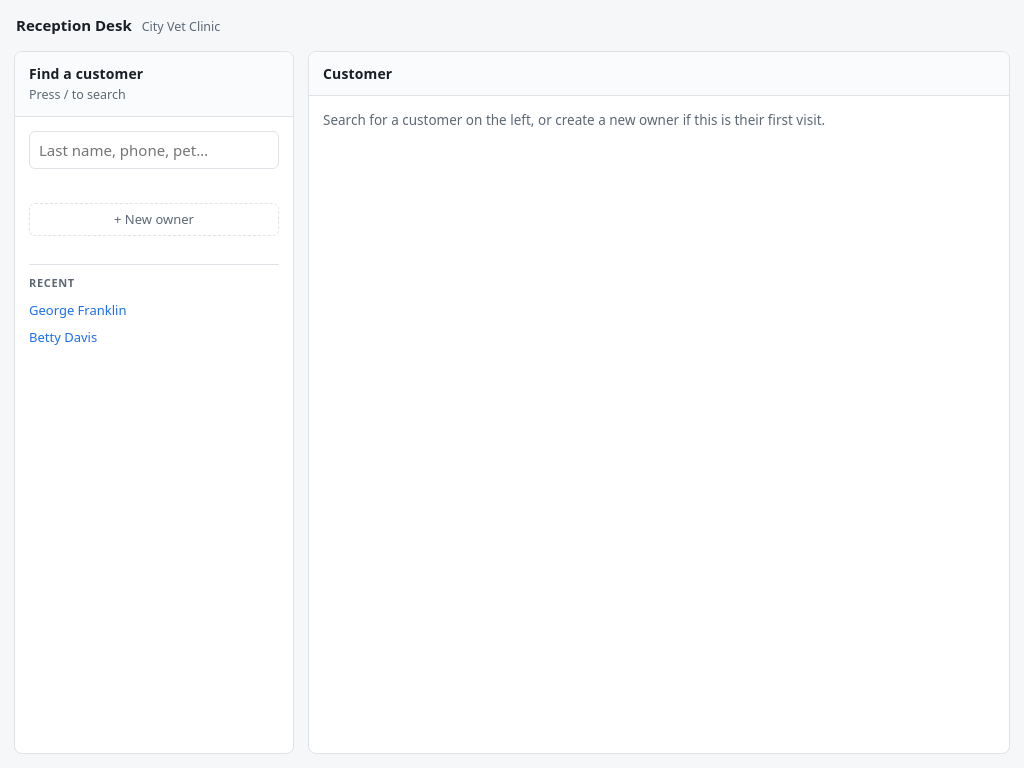
reception desk workflow › cannot let a slow earlier search overwrite a newer one
Type "Franklin" into the field named "search by last name" at (154, 150), box [29, 130, 279, 169]
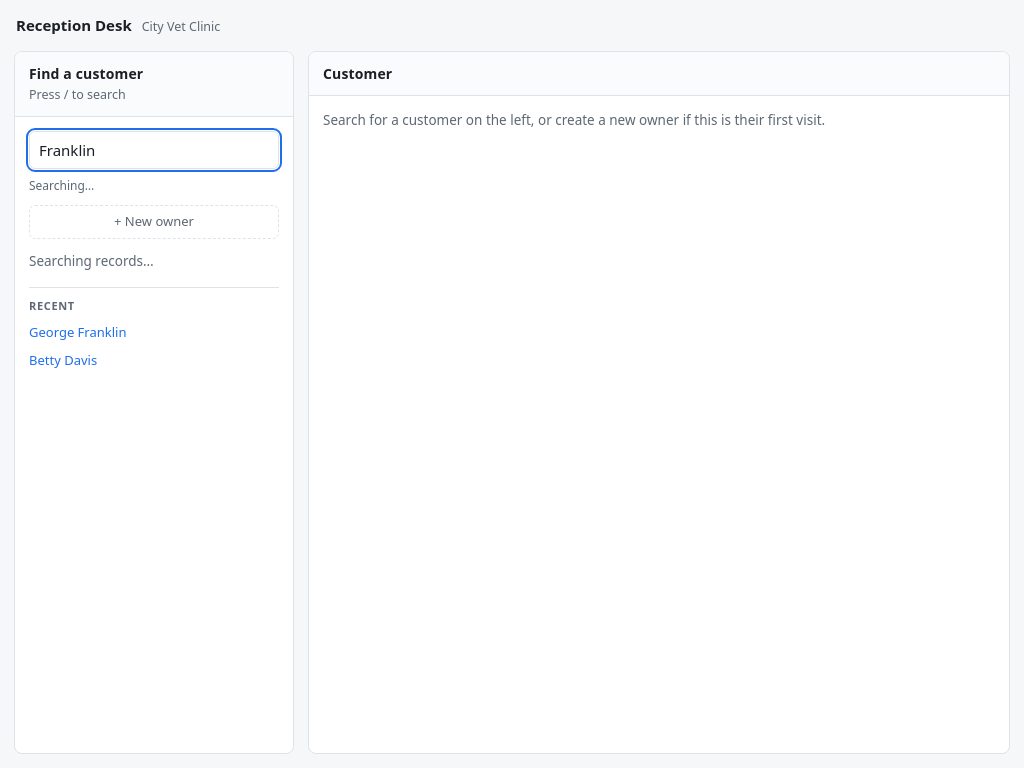
Replace the text in the field named "search by last name" with "Davis" at (154, 150), box [29, 130, 279, 169]
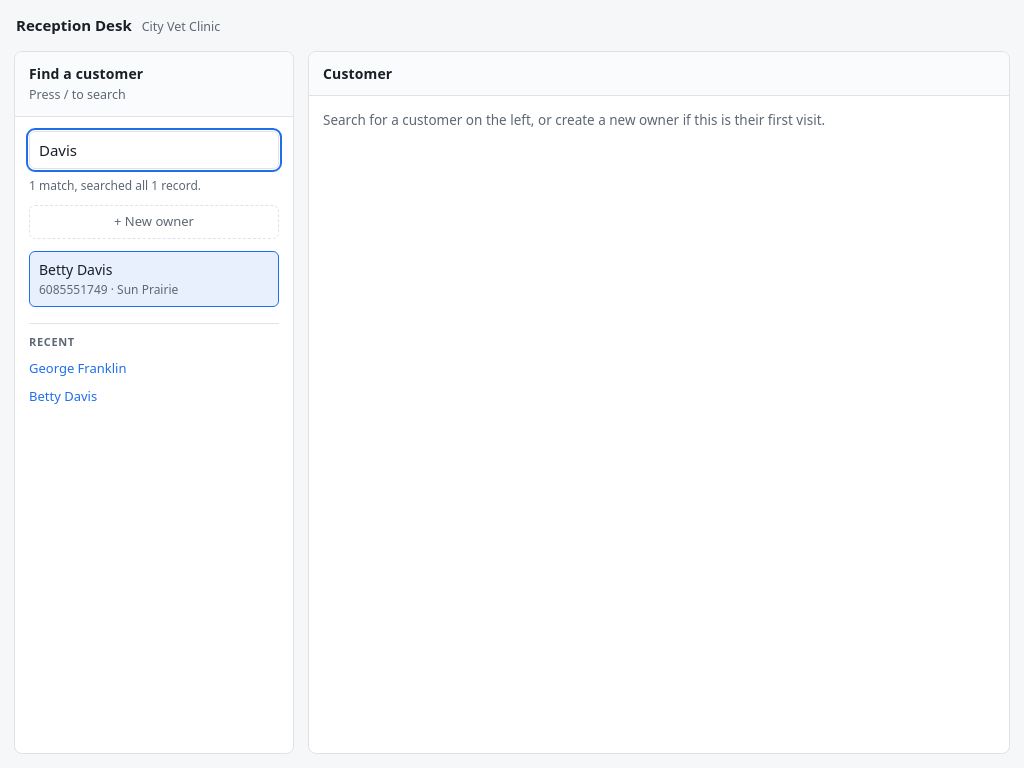
Result: the button "Betty Davis 6085551749 · Sun Prairie" is shown at [29, 250, 279, 306]
